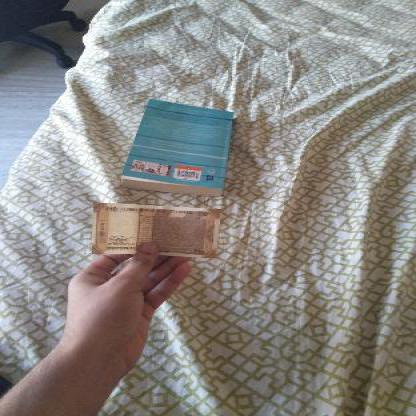New10Back: (89, 203, 220, 257)
